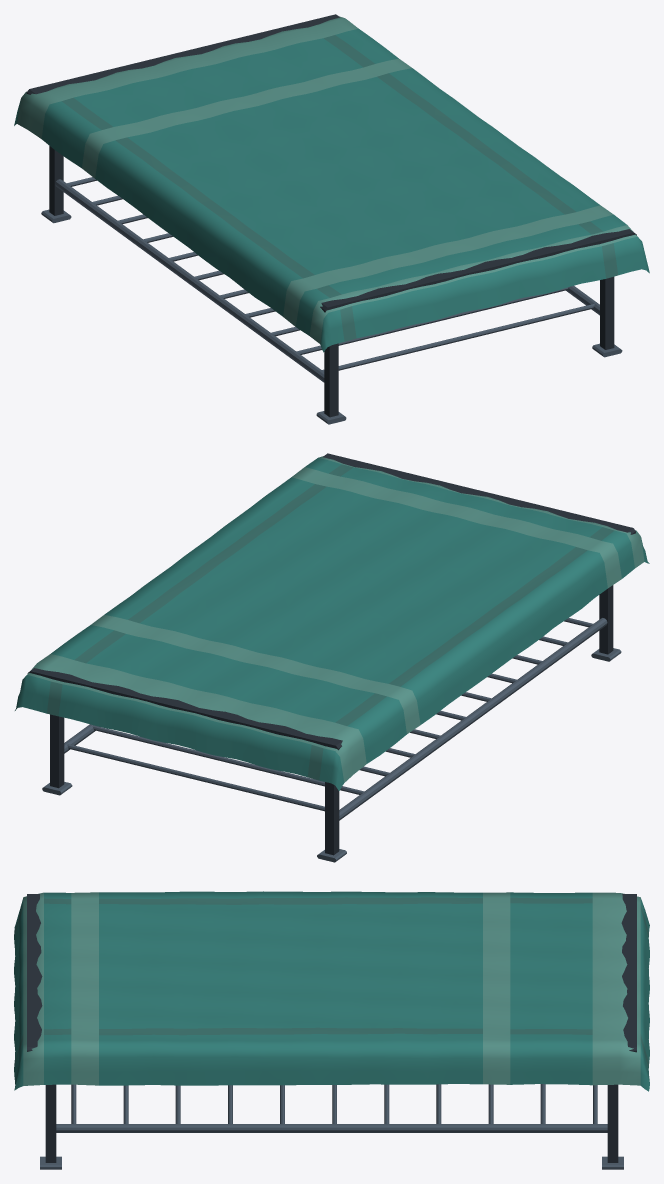
The model's file is A-09_oilcloth_table.glb.
3 views of the same model, one above another, from view 1: azimuth 30°, elevation 25°; view 2: azimuth 150°, elevation 25°; view 3: azimuth 270°, elevation 25° (orthographic). The views are drawn at different scales.
Visible parts, largest first — view 1: A-09_oilcloth_table; view 2: A-09_oilcloth_table; view 3: A-09_oilcloth_table.
Part boxes in pixels (x1=…): A-09_oilcloth_table: x1=14, y1=14, x2=649, y2=424; A-09_oilcloth_table: x1=15, y1=453, x2=649, y2=862; A-09_oilcloth_table: x1=14, y1=891, x2=649, y2=1169.
Size of the model in its own units: 2.18 by 0.8003 by 3.6.
